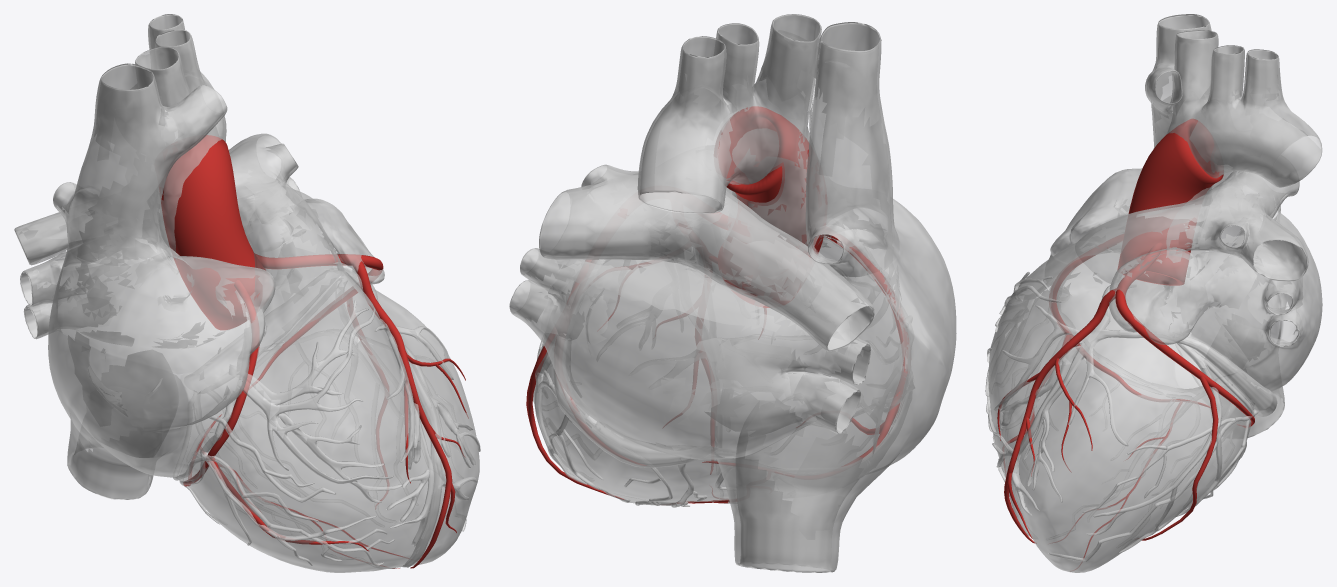
File: heartAR.gltf
3 renders of one model, left to right at view 1: azimuth 30°, elevation 25°; view 2: azimuth 150°, elevation 25°; view 3: azimuth 270°, elevation 25°, orthographic. The views are drawn at different scales.
Parts seen in each view (by area): view 1: heart, aorta_new; view 2: heart, aorta_new; view 3: heart, aorta_new.
Boxes of the visible parts, bbox=[...] form: heart: bbox=[14, 14, 480, 572]; aorta_new: bbox=[159, 135, 468, 568]; heart: bbox=[509, 14, 956, 572]; aorta_new: bbox=[526, 106, 908, 503]; heart: bbox=[985, 14, 1322, 572]; aorta_new: bbox=[997, 119, 1254, 558].
Size of the model in its own units: 2.57 by 3.52 by 2.36.
